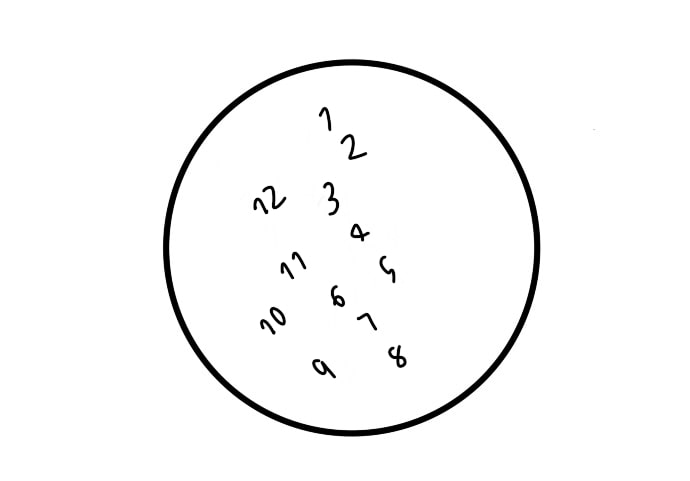eight: (385, 342, 410, 371)
eleven: (273, 247, 307, 283)
five: (376, 249, 397, 286)
four: (350, 217, 370, 247)
nine: (312, 353, 338, 380)
one: (316, 102, 336, 135)
seven: (357, 308, 381, 333)
six: (330, 282, 348, 309)
ten: (258, 304, 289, 338)
three: (318, 177, 342, 219)
twelve: (249, 182, 287, 216)
two: (339, 131, 367, 162)
